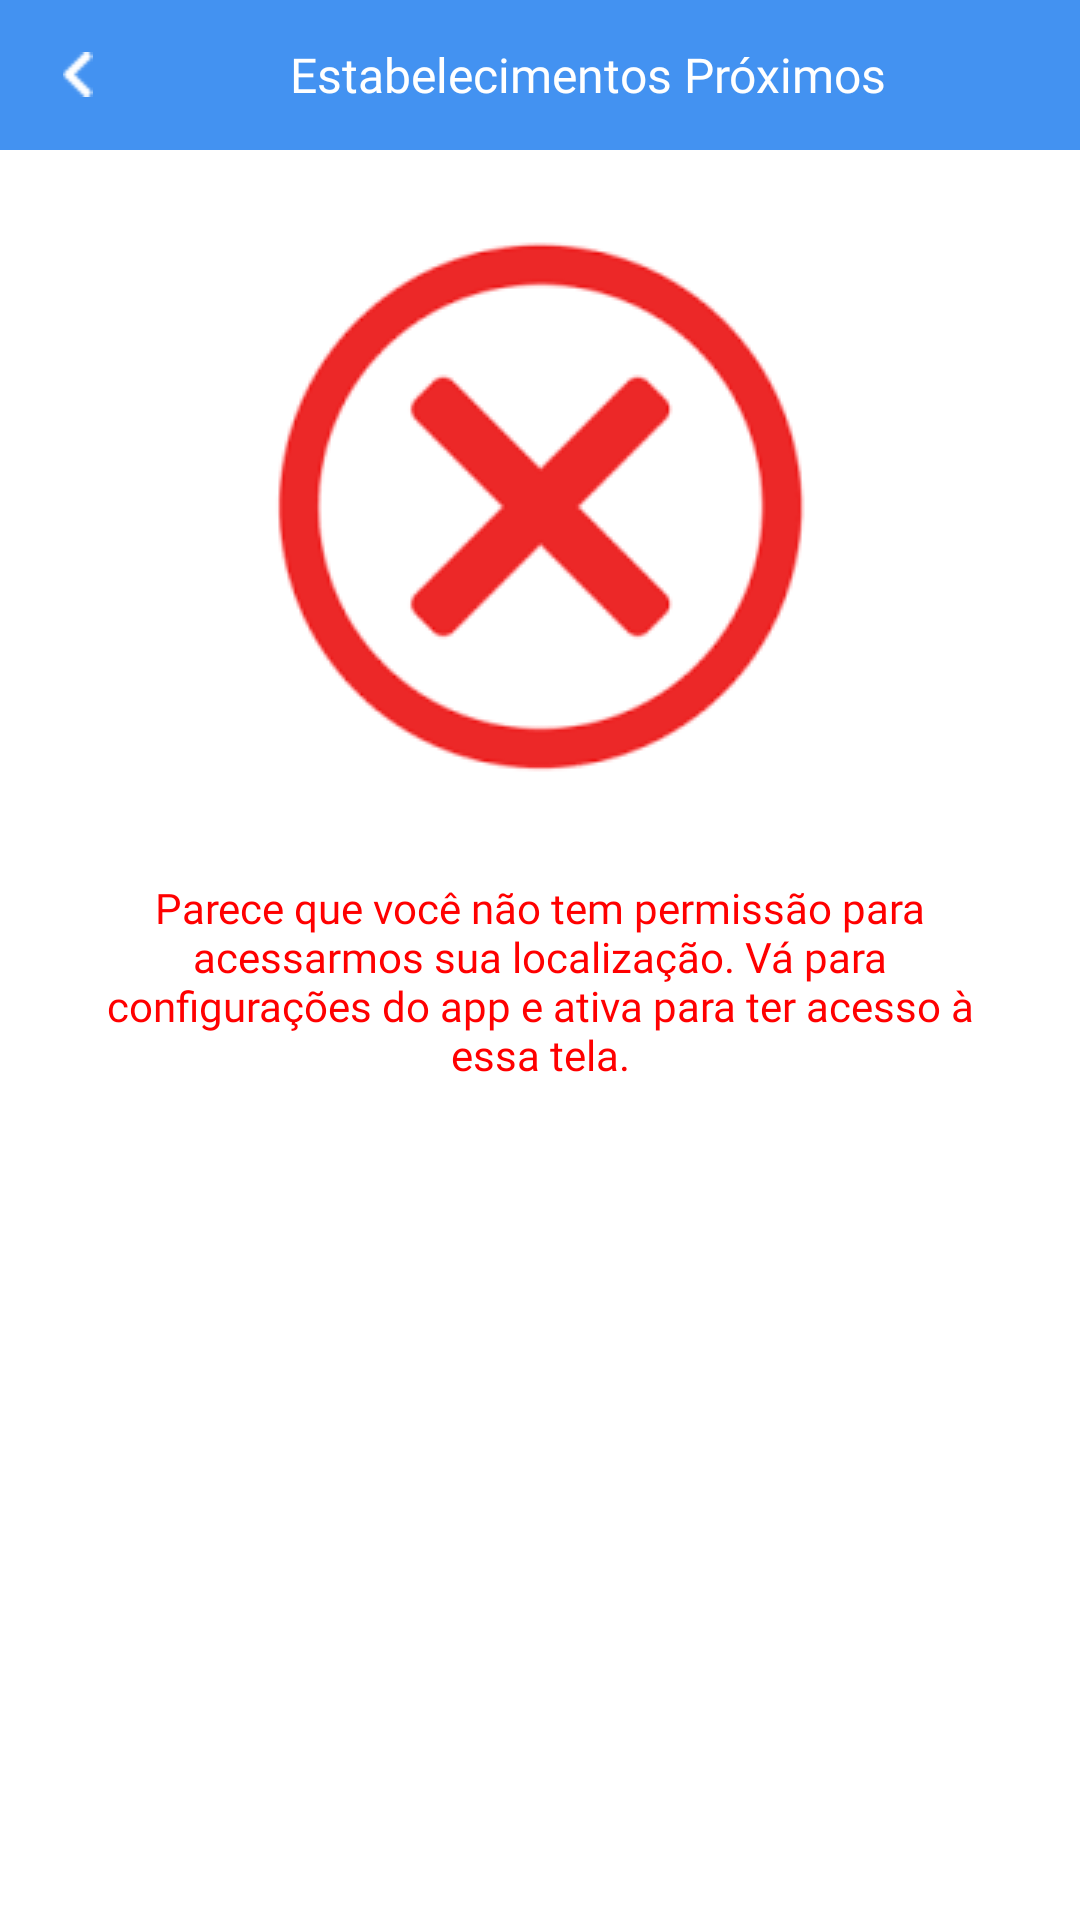

Screen size 1080 x 1920. Icon name, then its box in pixels as rect(x1, y1, x2, y2):
voltar anuncio: rect(63, 52, 93, 97)
